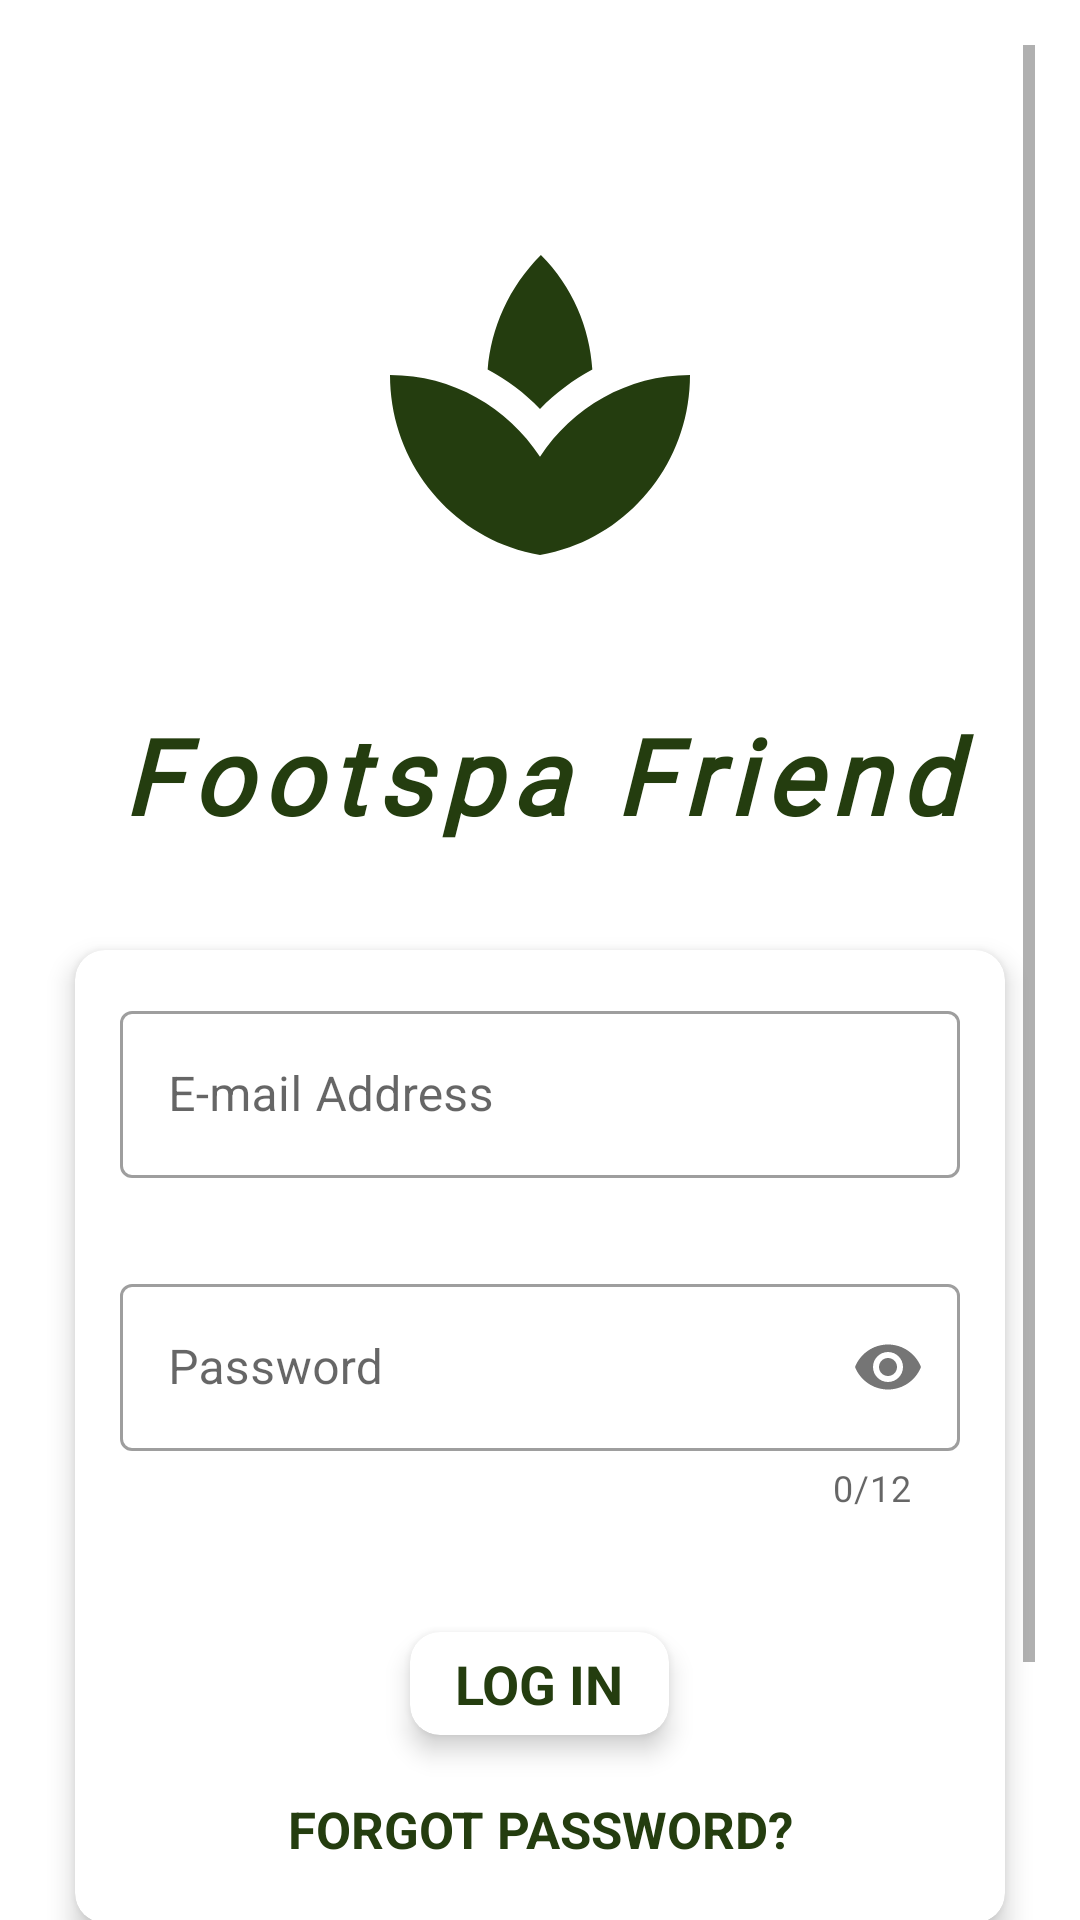

Screen size 1080 x 1920. Icon name, then its box in pixels as (x1, y1, x2, y2):
spa: (390, 255, 690, 555)
